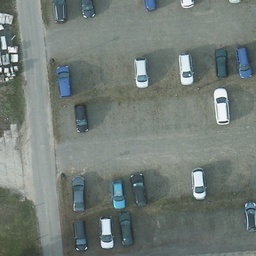car: (129, 172, 147, 208), (235, 45, 253, 80), (117, 213, 135, 247), (214, 88, 230, 125), (214, 44, 231, 76), (72, 102, 89, 134), (110, 176, 126, 209), (190, 169, 207, 199), (71, 176, 86, 210), (56, 65, 72, 96), (97, 216, 112, 248), (135, 55, 149, 89), (49, 1, 71, 22), (76, 217, 88, 250), (181, 54, 192, 84), (79, 1, 97, 18), (141, 1, 157, 12), (175, 1, 193, 9), (224, 1, 241, 2)
